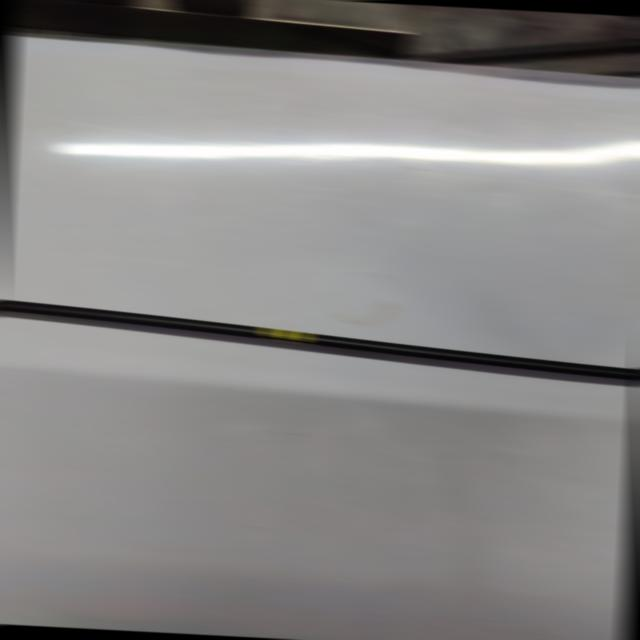yellow: (260, 328, 312, 344)
